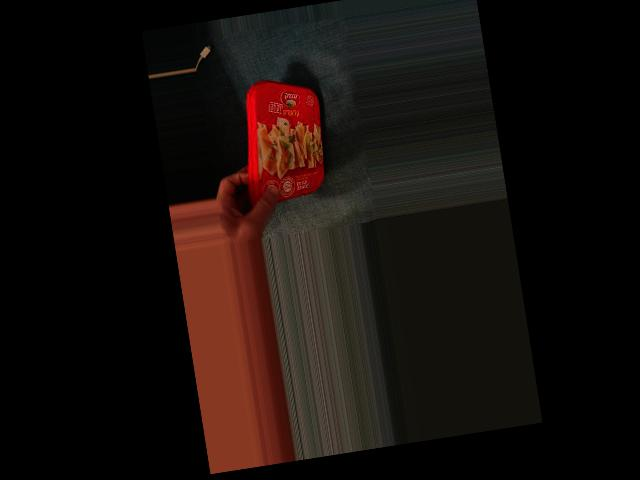cheese: (237, 78, 335, 202)
